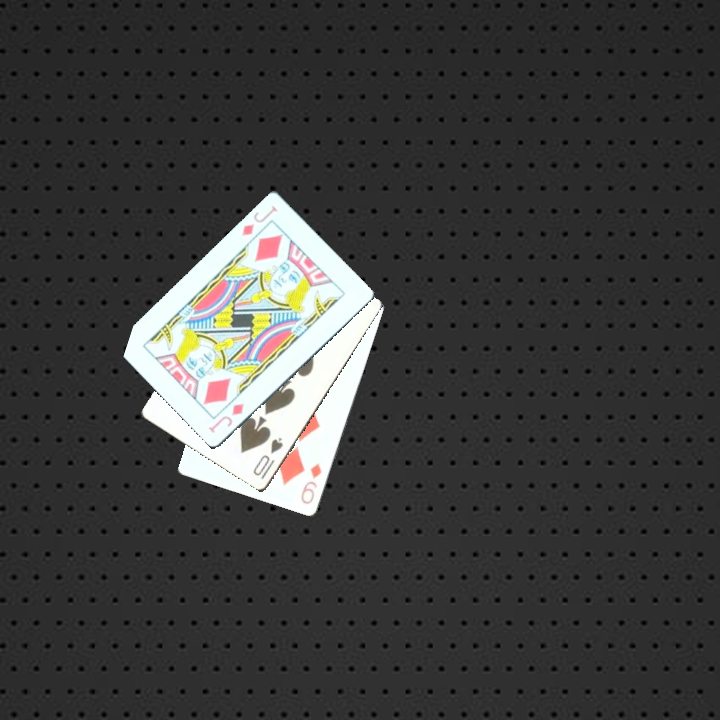10s: (249, 433, 286, 479)
9d: (296, 459, 324, 507)
Jd: (238, 202, 280, 249), (204, 399, 247, 436)
